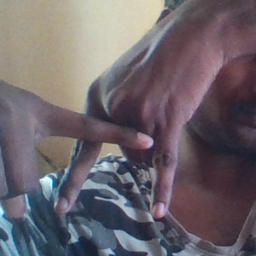H: (53, 86, 191, 229)
